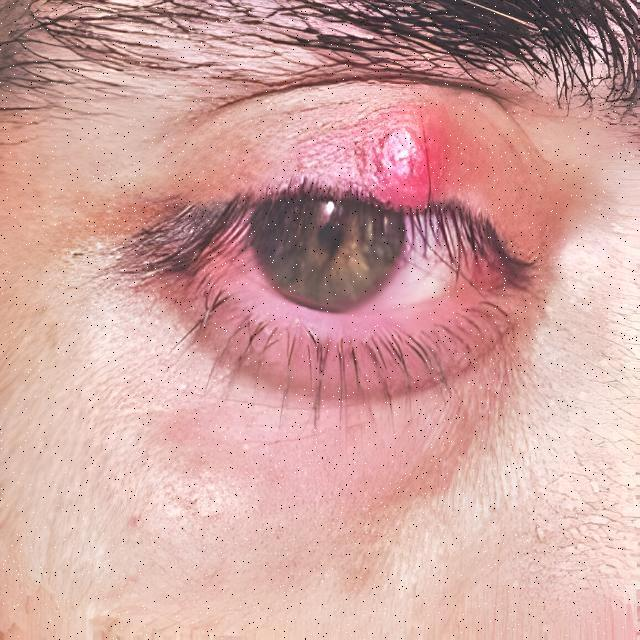Stye: (268, 74, 542, 266)
